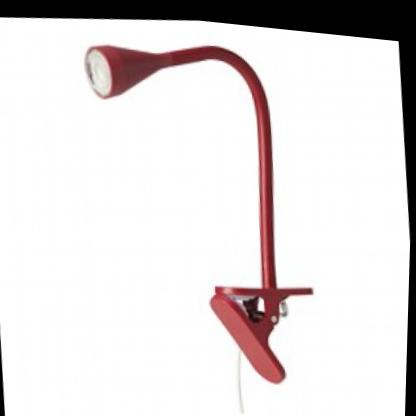Lamp: (60, 6, 347, 416)
